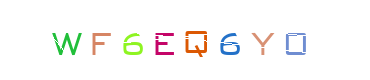0: (223, 0, 303, 80)
6: (107, 0, 187, 80), (145, 0, 225, 80)
E: (123, 0, 203, 80)
F: (92, 0, 172, 80)
Q: (131, 0, 211, 80)
W: (27, 0, 107, 80)
Y: (157, 0, 237, 80)
